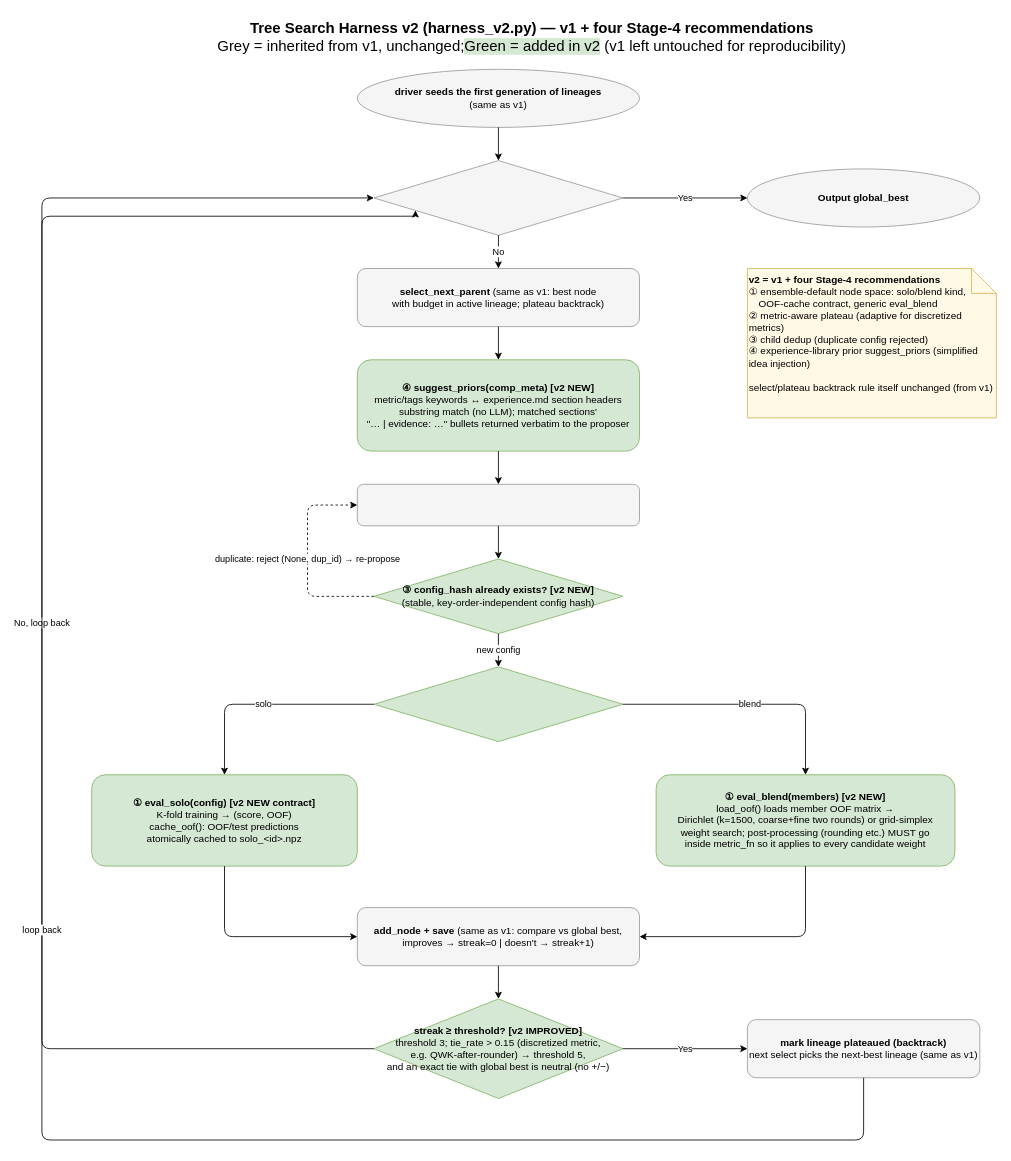
Some shapes in this 1011 by 1161 pixel diagram are drawn without their labels. Here are the shapes that lost their labels. From the top down, the centre of each, then its label:
the point at 498,197: driver budget exhausted? (still no built-in stop rule)
the point at 498,504: propose a mutation (informed by priors)
the point at 498,704: node kind? [v2 NEW] solo | blend (first-class field)
